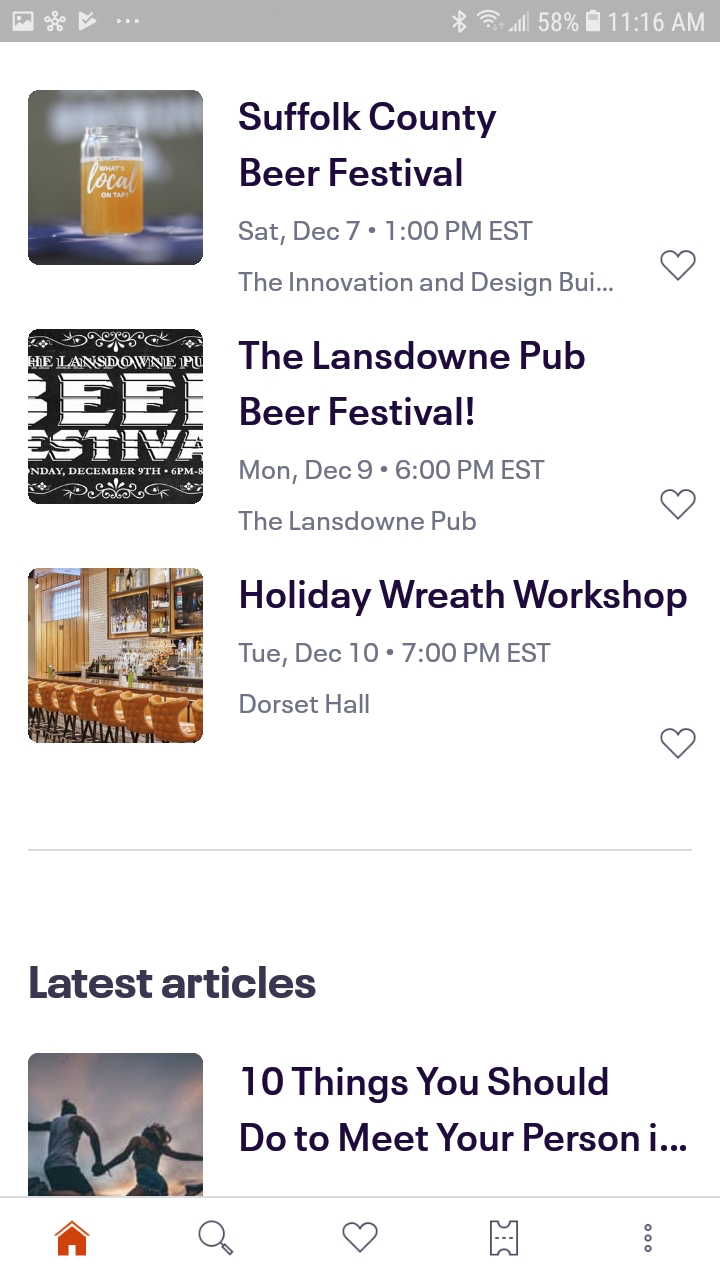Icon: (199, 1220, 234, 1255), (659, 488, 696, 521), (56, 1221, 90, 1256), (660, 250, 697, 282), (343, 1221, 379, 1253), (661, 728, 696, 759), (490, 1220, 519, 1257), (644, 1224, 653, 1253)
Image: (29, 568, 205, 744), (29, 329, 205, 505), (29, 90, 204, 266), (28, 1053, 204, 1196)
Text: (242, 1066, 687, 1152), (239, 341, 586, 427), (239, 102, 498, 188), (240, 579, 687, 617), (30, 965, 317, 999), (239, 271, 614, 297), (239, 643, 552, 669), (239, 460, 545, 486), (239, 220, 534, 246), (238, 511, 478, 532), (239, 694, 370, 715)
UpperTaskBar: (1, 1, 720, 43)
